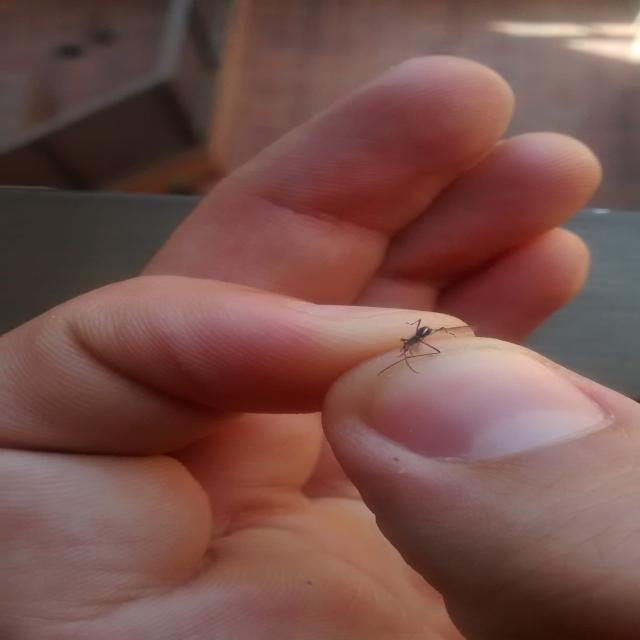albopictus: (365, 314, 469, 379)
